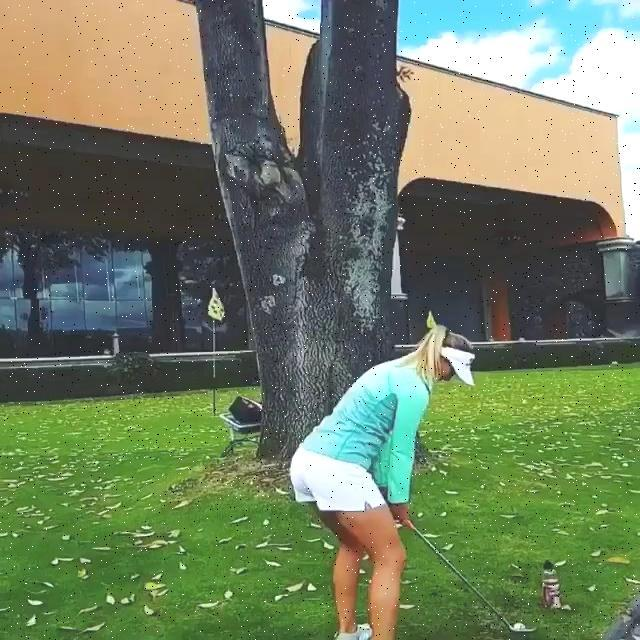golf ball: (512, 620, 524, 629)
golf club-handle: (395, 504, 540, 635)
golf club-head: (513, 627, 538, 635)
